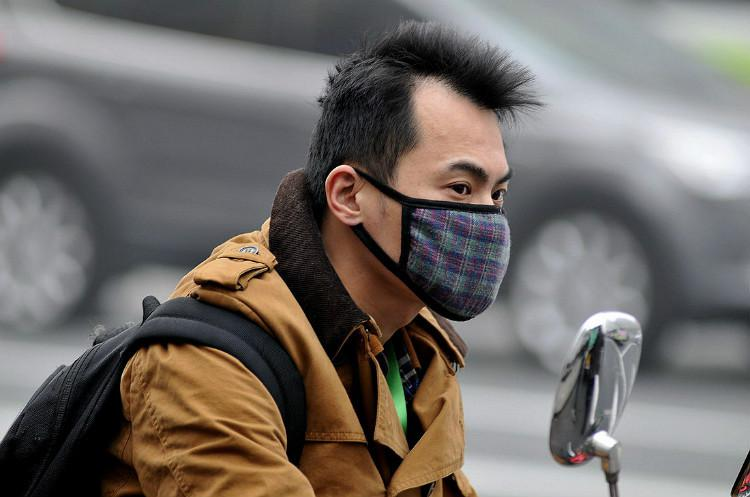OK: (384, 130, 514, 318)
